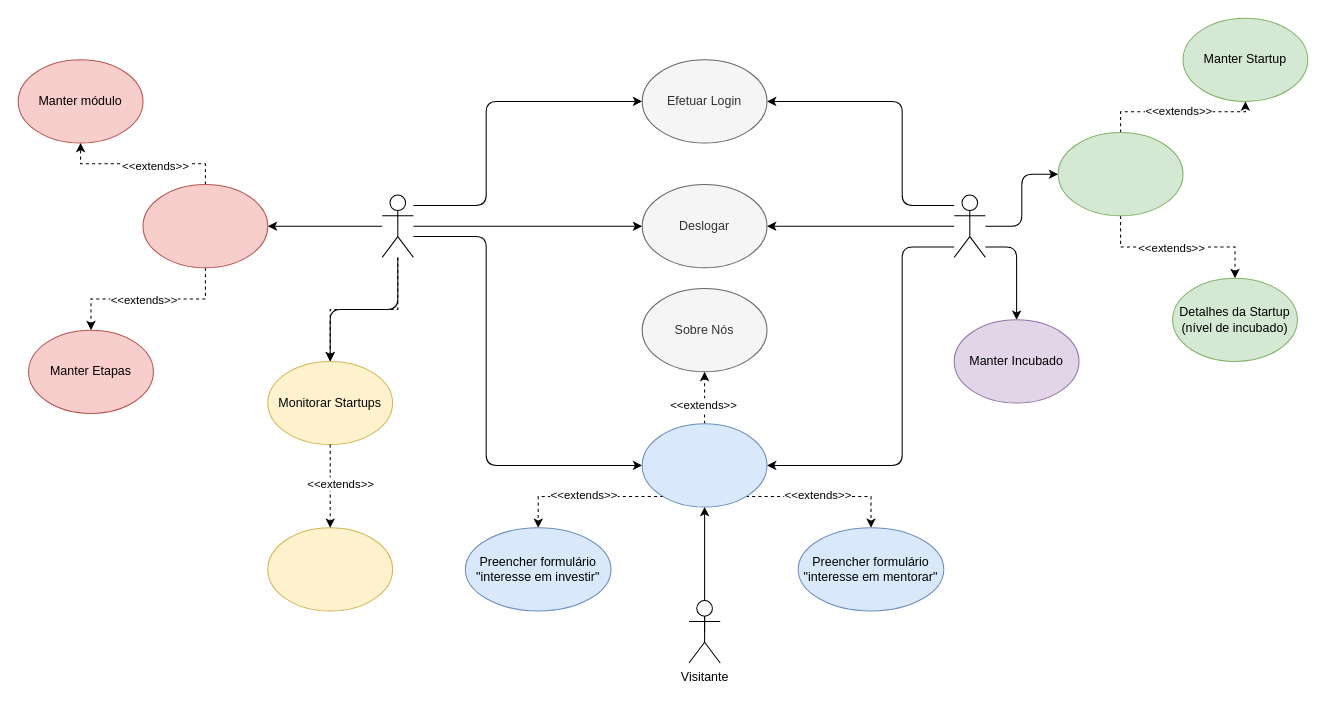
Image size: 1326x703. Some labels were removed from this diagram. The centre of each missing label's shape, as x and y in pixels:
Detalhes da Startup (nível de mentor): [330,569]
Incubado: [969,225]
Mentor: [397,225]
Minhas Startups: [1120,174]
Página de Administração: [205,226]
Tela Incial: [704,465]
